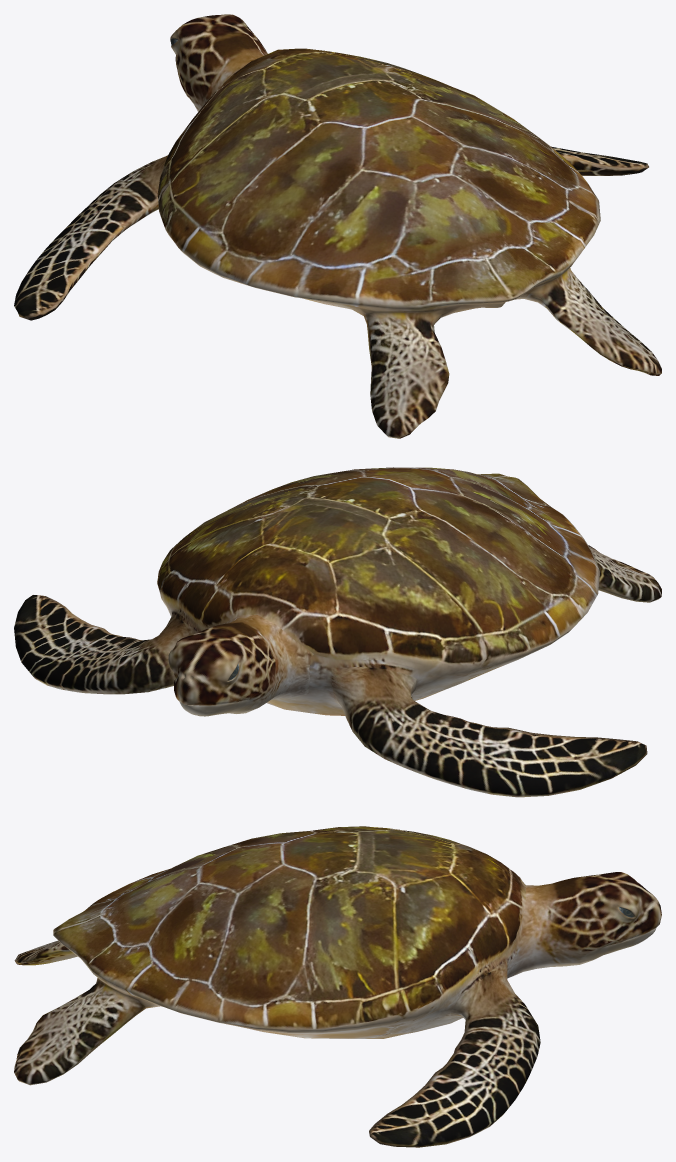
The model's file is turtle.glb.
The picture shows the model from 3 angles, top to bottom: view 1: azimuth 30°, elevation 25°; view 2: azimuth 150°, elevation 25°; view 3: azimuth 270°, elevation 25°; orthographic projection. The views are drawn at different scales.
Visible parts, largest first — view 1: Object_7; view 2: Object_7; view 3: Object_7.
Part boxes in pixels (x1,y1,x2,y2): Object_7: [14, 14, 661, 438]; Object_7: [14, 467, 661, 797]; Object_7: [14, 826, 661, 1147].
Size of the model in its own units: 40.1 by 11.82 by 38.77.
1 material, 1 textured.
